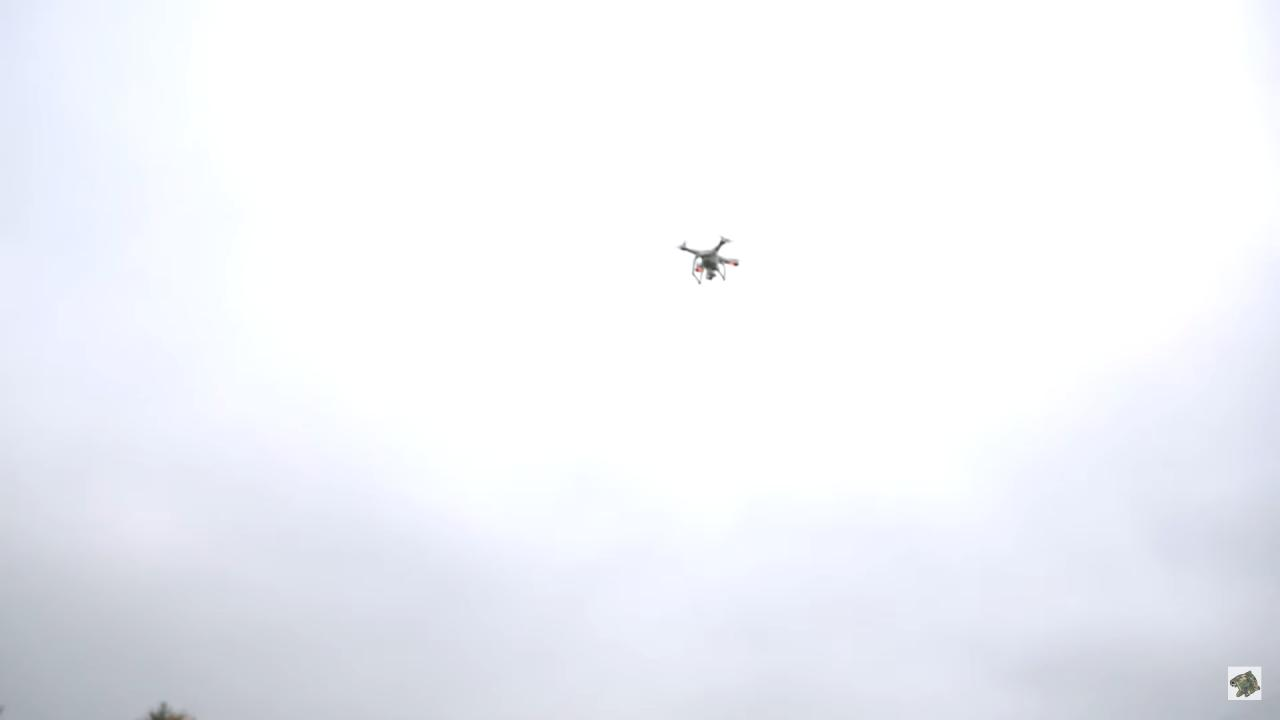Drone: (669, 227, 748, 292)
